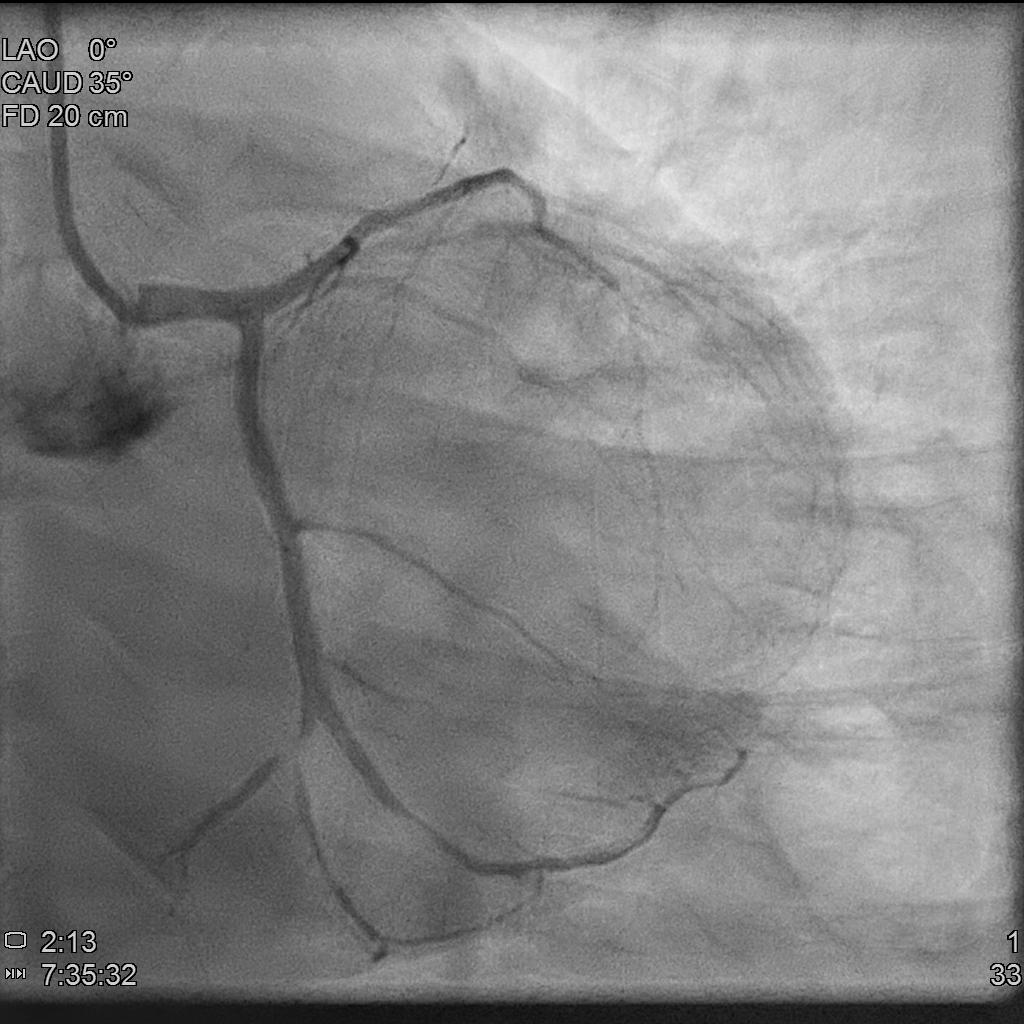block: (257, 709, 343, 814)
